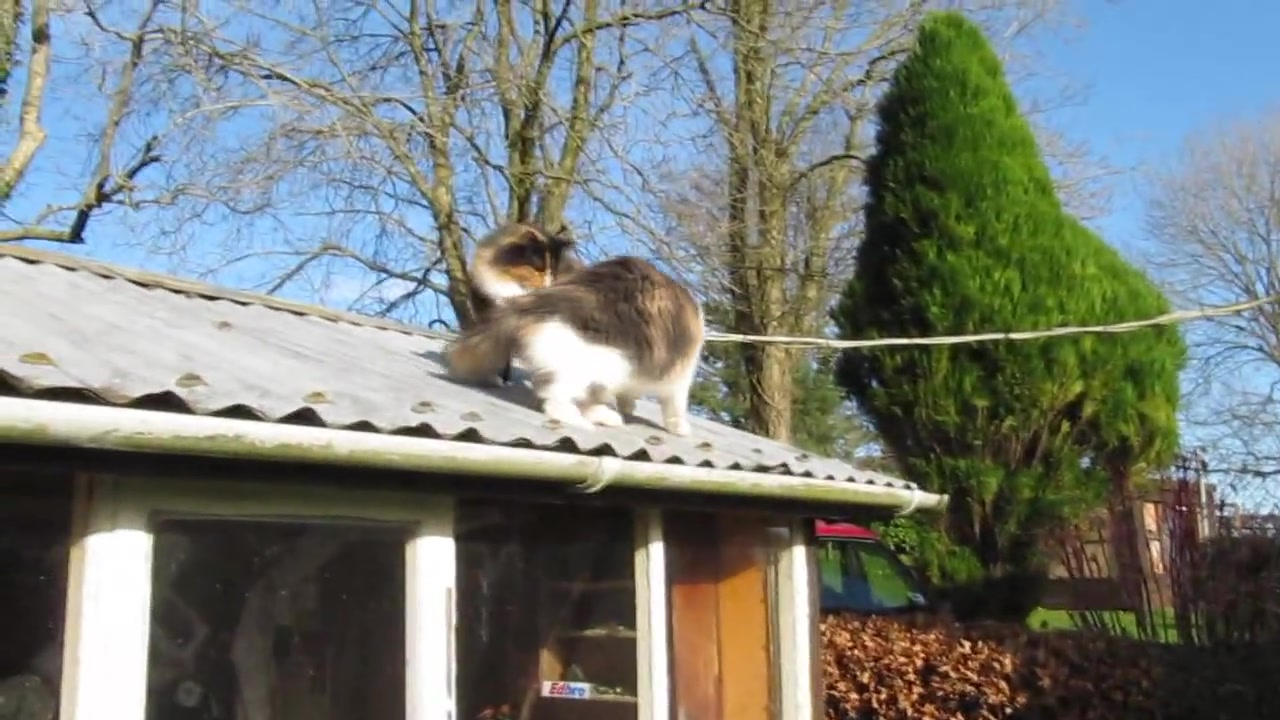cat: (450, 219, 709, 437)
